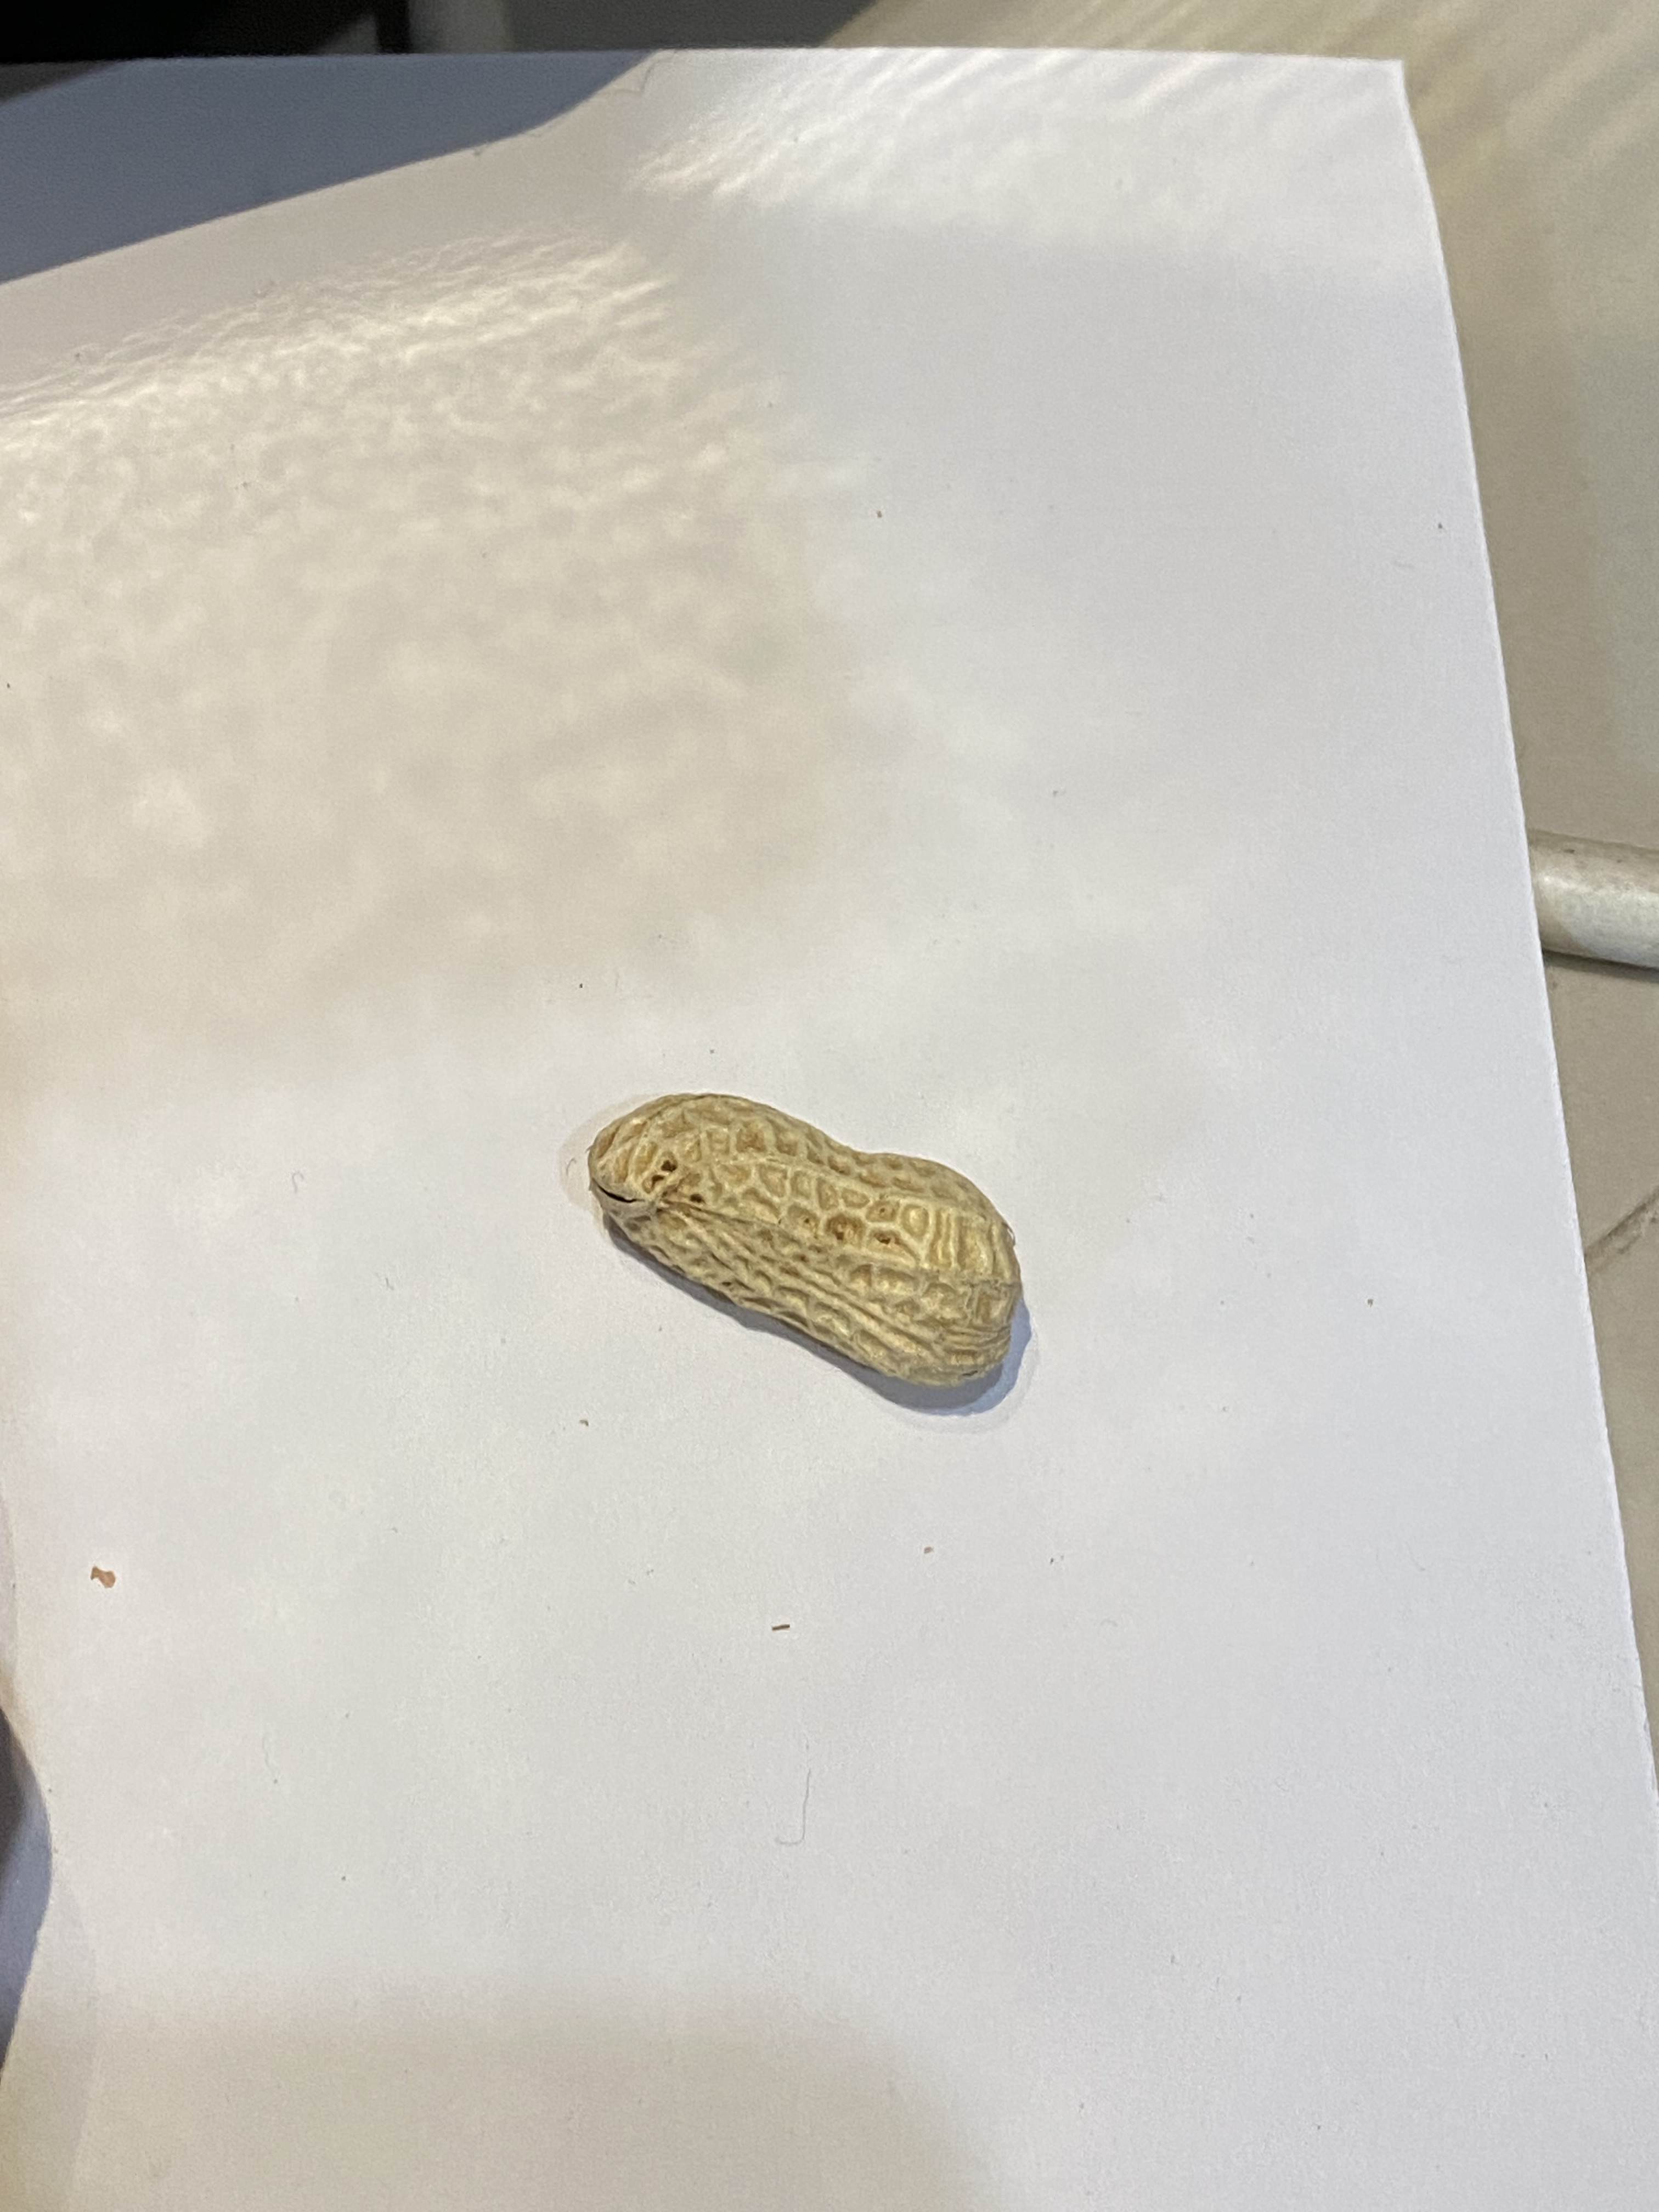kacang2: (570, 1078, 1037, 1404)
